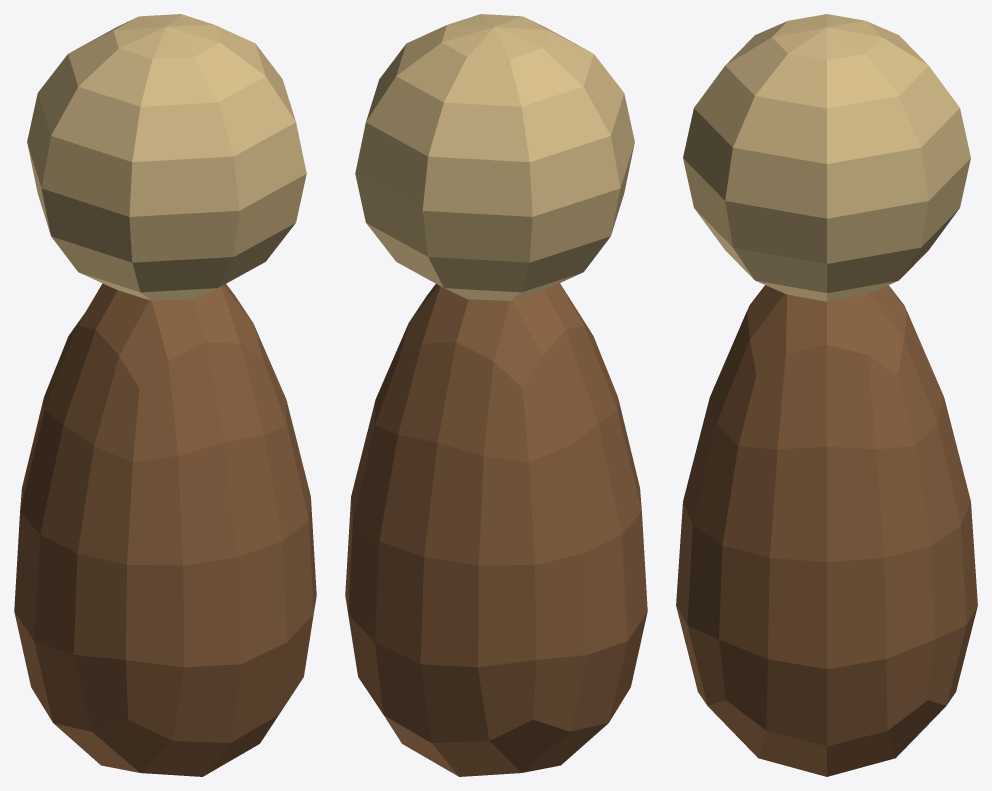
Rendered from mhuman.glb.
3 views of the same model, side by side, from view 1: azimuth 30°, elevation 25°; view 2: azimuth 150°, elevation 25°; view 3: azimuth 270°, elevation 25° (orthographic).
Parts seen in each view (by area): view 1: MHuman; view 2: MHuman; view 3: MHuman.
Part boxes in pixels (x1,y1,x2,y2): MHuman: (14, 14, 316, 776); MHuman: (345, 14, 647, 776); MHuman: (676, 14, 977, 776).
Bounding box in the file's own units: 0.2142 × 0.577 × 0.2142.
